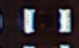COMP: (15, 6, 76, 36)
GAP: (23, 25, 71, 48)
